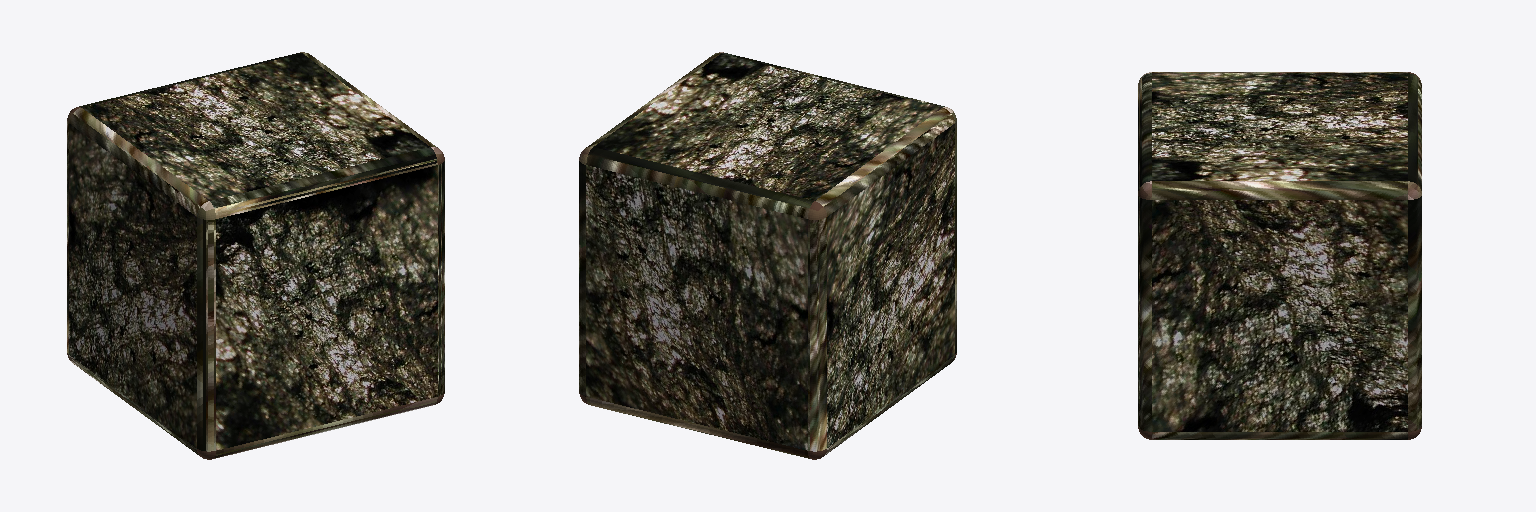
3 renders of one model, left to right at view 1: azimuth 30°, elevation 25°; view 2: azimuth 150°, elevation 25°; view 3: azimuth 270°, elevation 25°, orthographic.
Parts seen in each view (by area): view 1: Cube; view 2: Cube; view 3: Cube.
Boxes of the visible parts, box(x1,y1,x2,y2) form: Cube: box(67, 52, 444, 459); Cube: box(579, 52, 956, 459); Cube: box(1138, 72, 1421, 439).
Bounding box in the file's own units: 2 × 2 × 2.
1 materials, 1 textured.